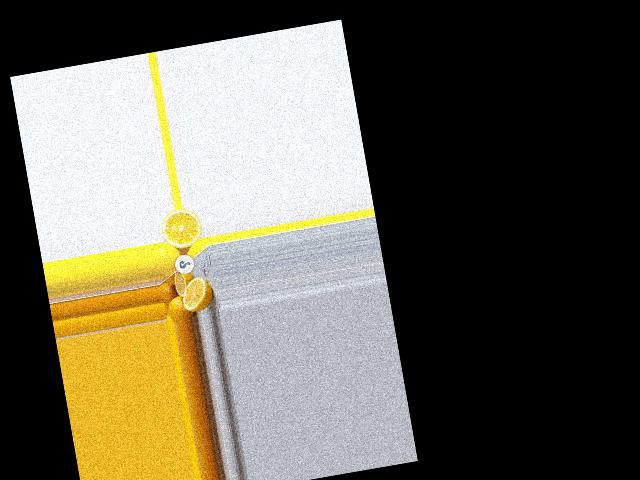lemon: (152, 237, 185, 280)
